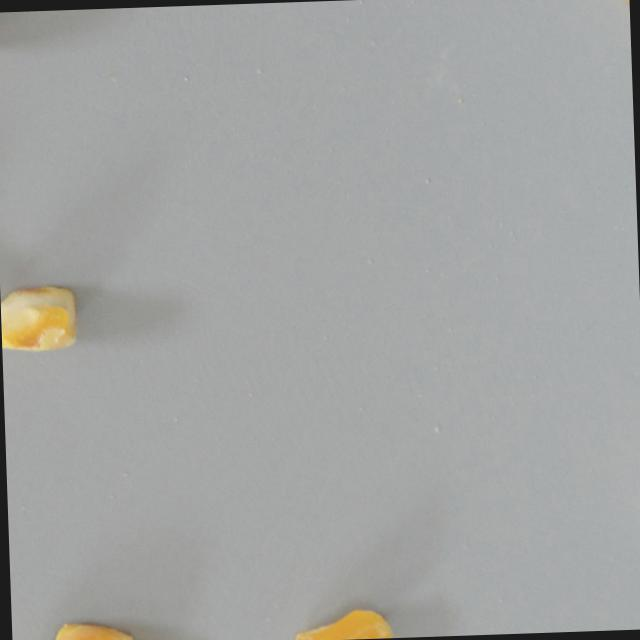pelicula: (0, 283, 79, 352), (285, 604, 396, 640), (51, 617, 146, 640), (600, 0, 630, 36), (0, 11, 8, 57)
